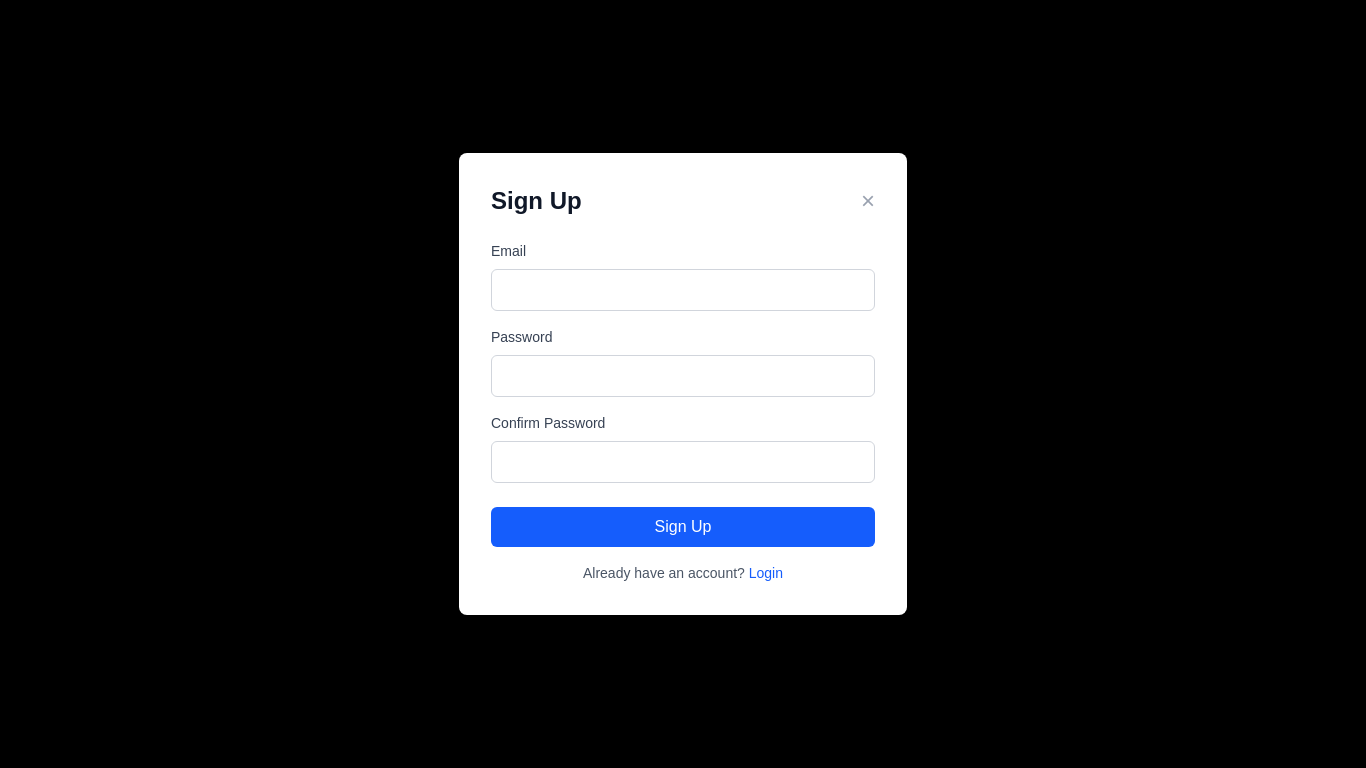
Test case: SignupModal › shows a validation error when passwords do not match
Type "new@example.com" into the field labelled "Email". click: (683, 290)
box: [491, 269, 875, 311]
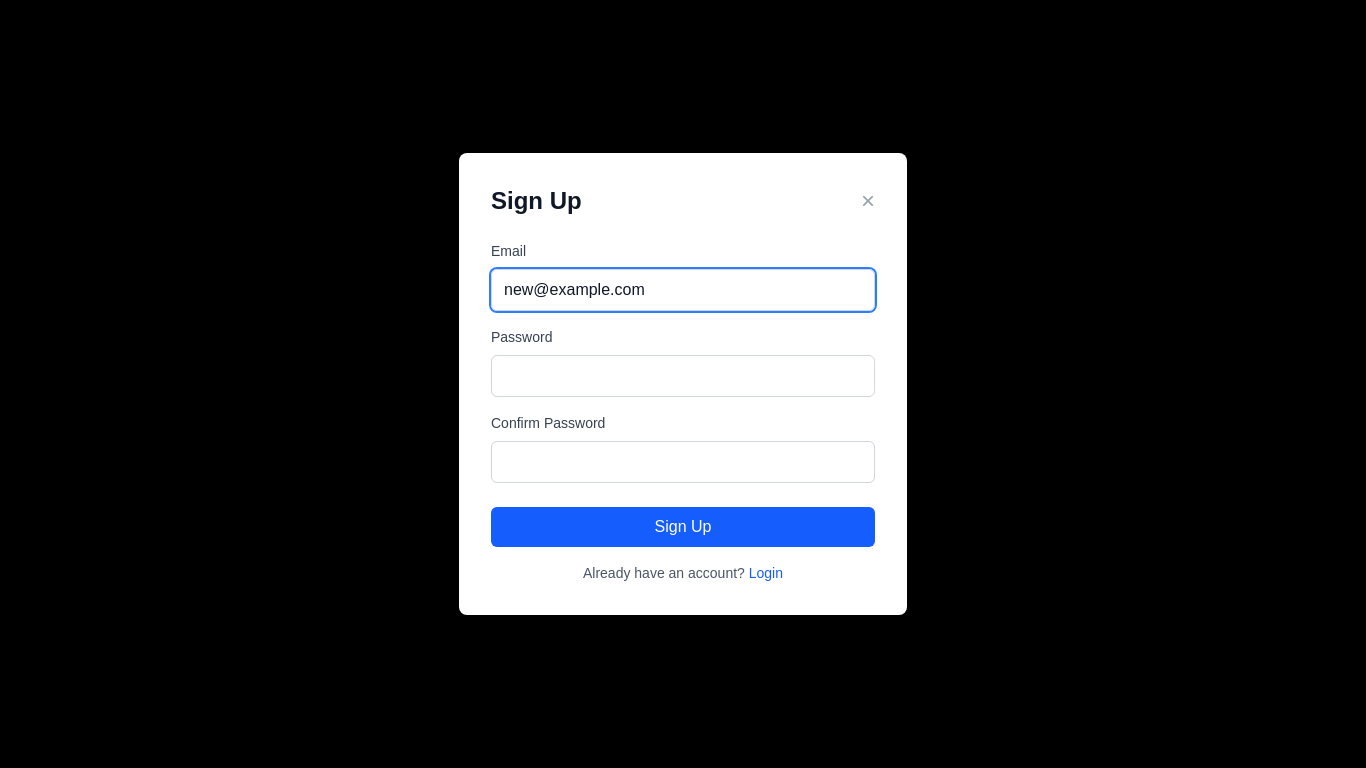
Type "secret123" into the password field labelled "Password". click: (683, 376)
box: [491, 355, 875, 397]
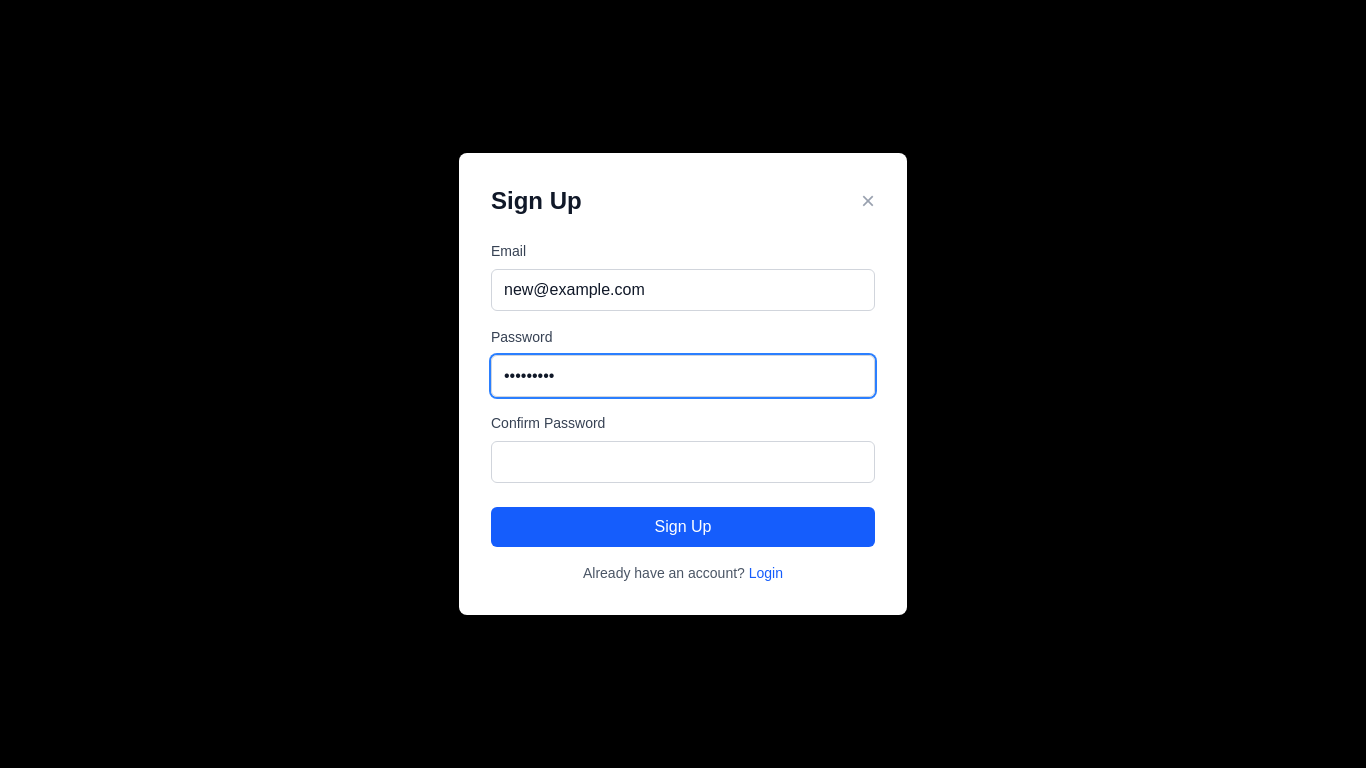
Type "different" into the password field labelled "Confirm Password". click: (683, 462)
box: [491, 441, 875, 483]
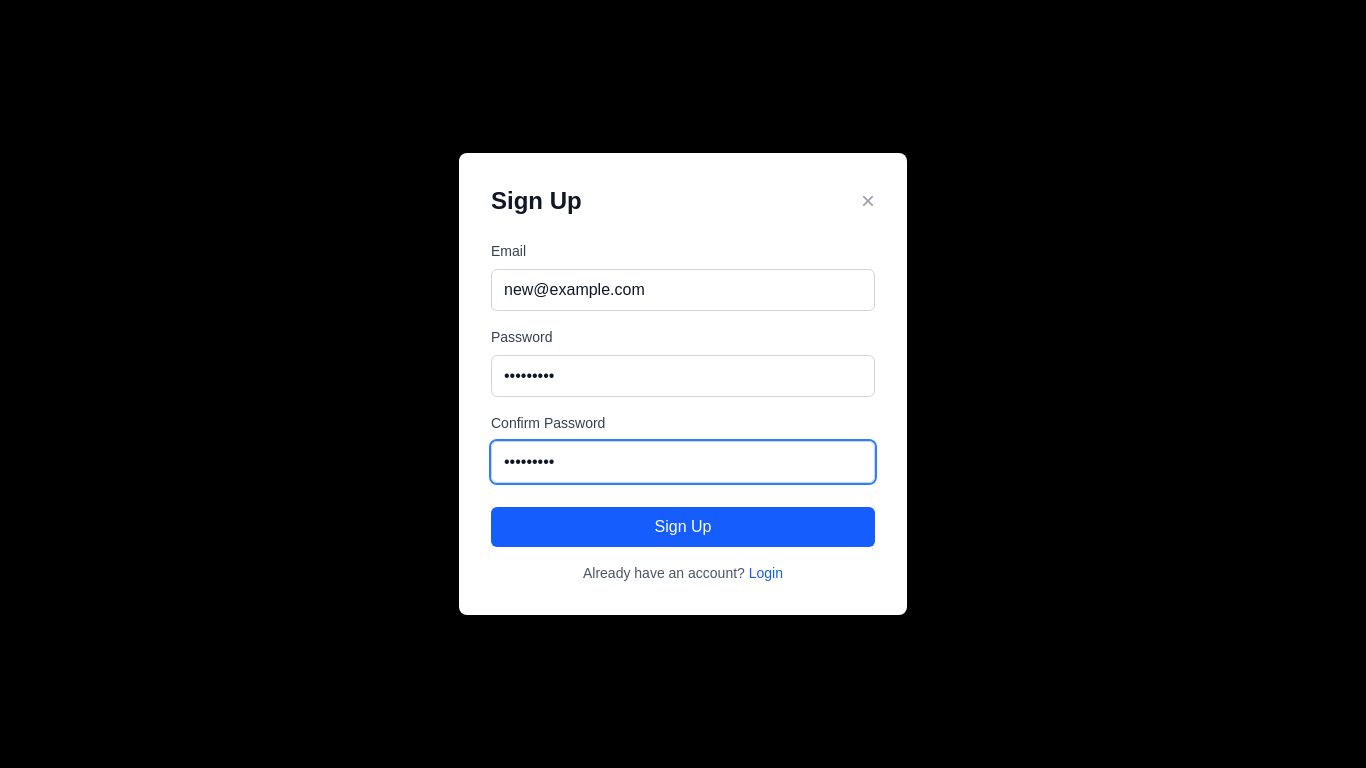
Click the button "Sign Up". click: click(683, 527)
box: [491, 507, 875, 547]
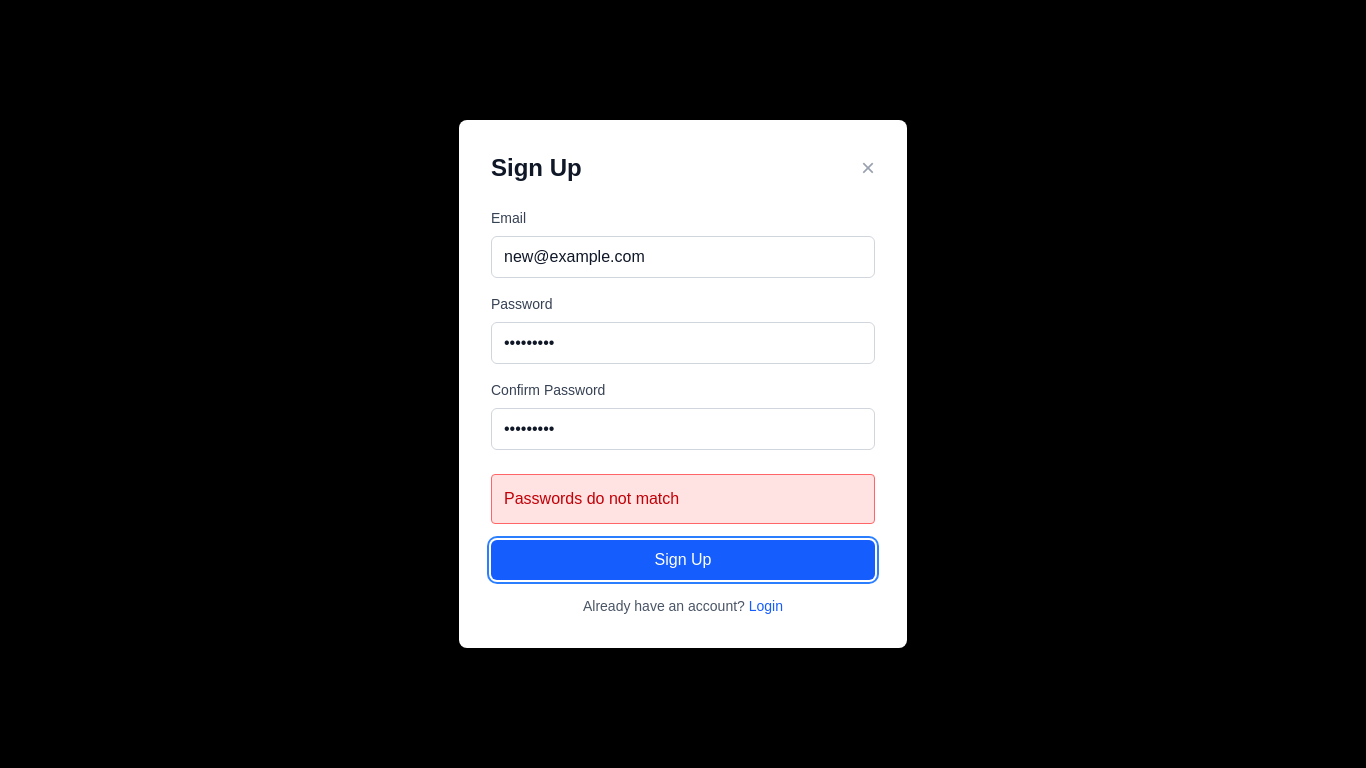
Check: the text "Passwords do not match" is shown, box [491, 474, 875, 524]
